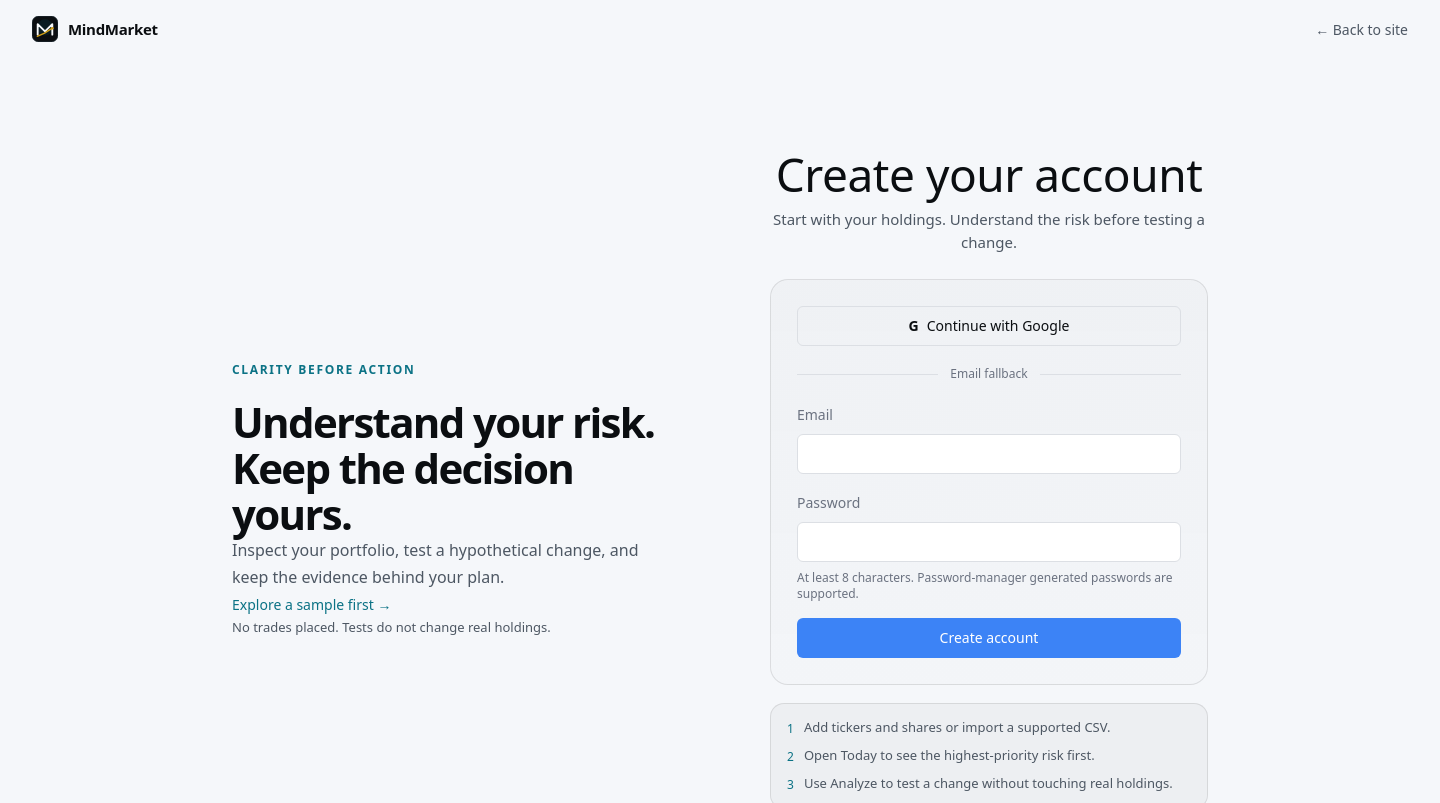
Test: SignupPage › rewrites Supabase's strict password-policy error
Type "x@y.com" into the field labelled "Email". click: (989,454)
box: [797, 434, 1181, 474]
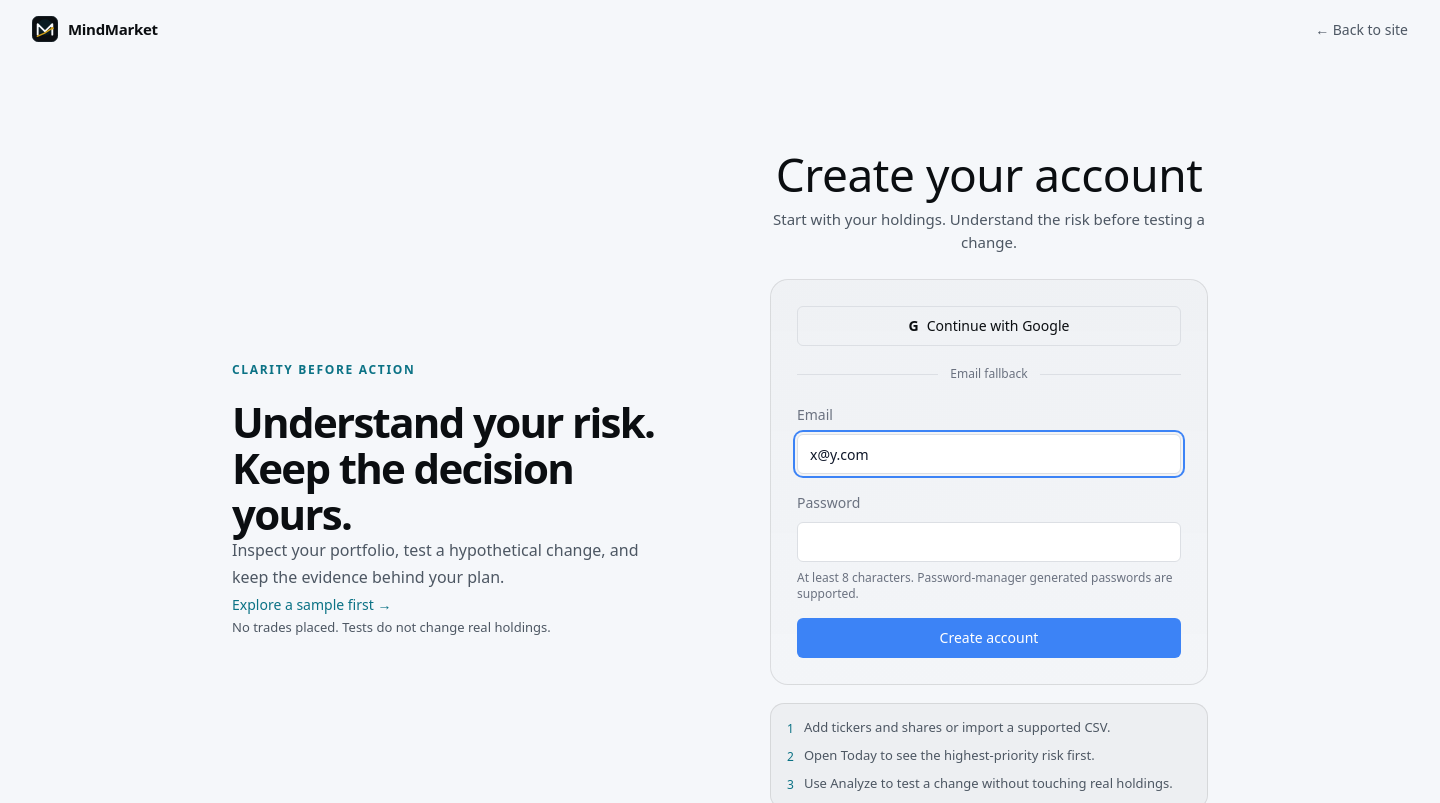
Type "ChromeGeneratedPassword123" into the password field labelled "Password". click: (989,542)
box: [797, 522, 1181, 562]
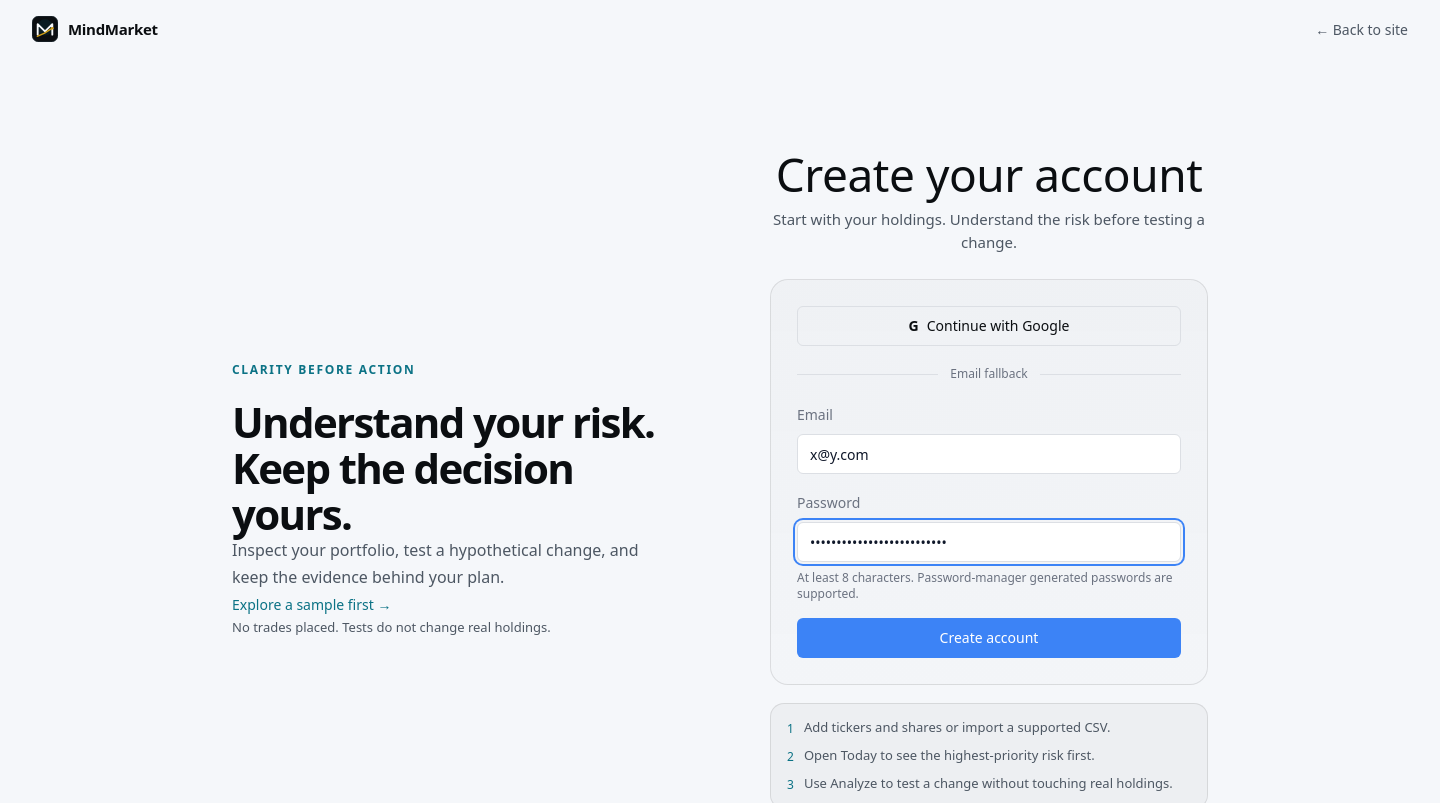
Click the button "Create account". click: (989,638)
box: [797, 618, 1181, 658]
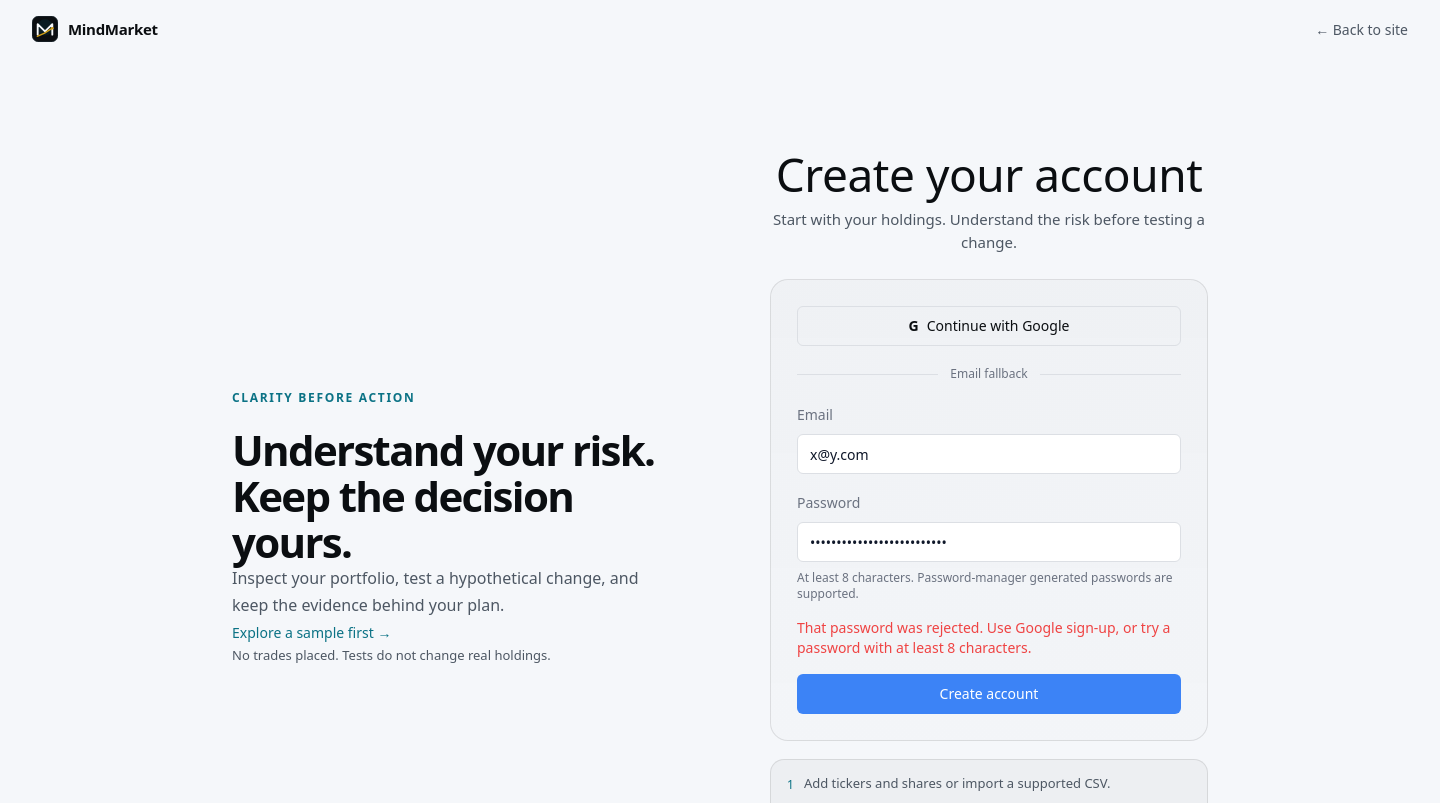
Check: the message shows "That password was rejected", box [797, 618, 1170, 657]
Check: the message shows "Use Google sign-up", box [797, 618, 1170, 657]
